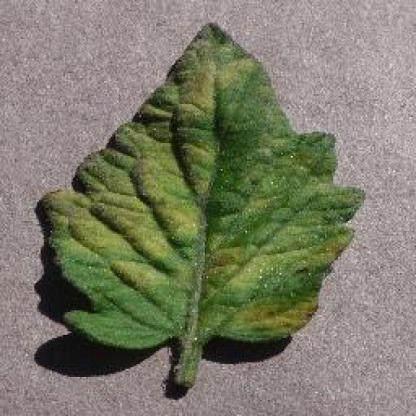Tomato_Leaf_Mold: (48, 24, 360, 343)
